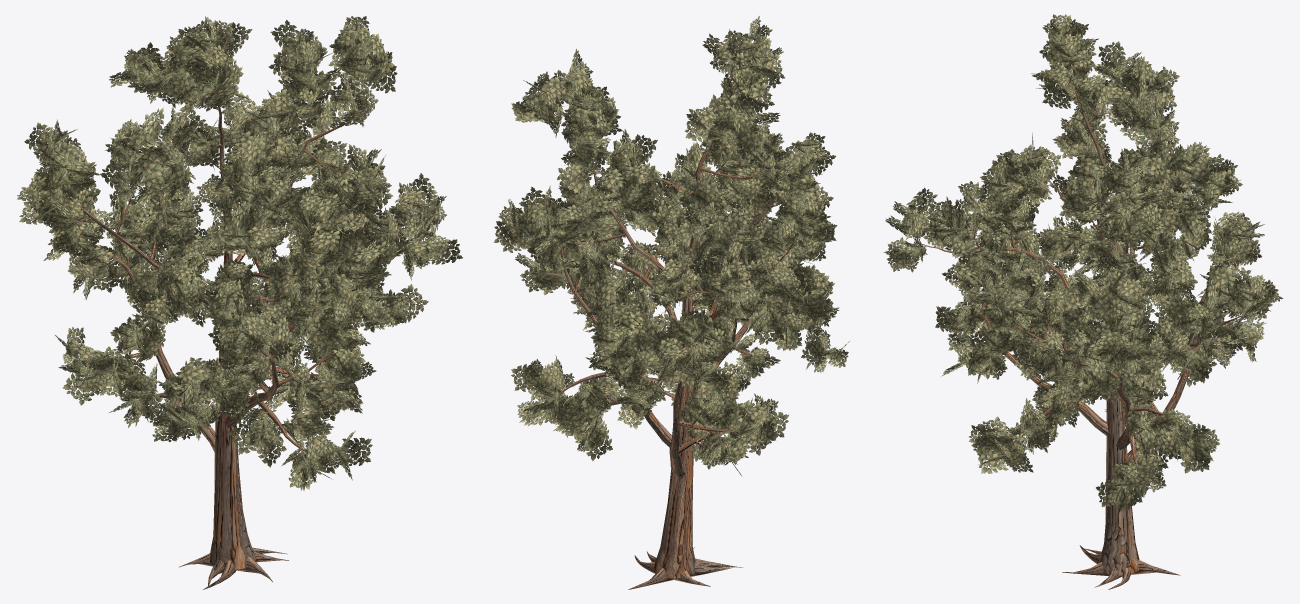
File: tree4.glb
3 renders of one model, left to right at view 1: azimuth 30°, elevation 25°; view 2: azimuth 150°, elevation 25°; view 3: azimuth 270°, elevation 25°, orthographic. The views are drawn at different scales.
Parts seen in each view (by area): view 1: Leaves_LOD0.003 (×2), Branches_LOD0.003 (×2); view 2: Leaves_LOD0.003 (×2), Branches_LOD0.003 (×2); view 3: Leaves_LOD0.003 (×2), Branches_LOD0.003 (×2).
Boxes of the visible parts, bbox=[...] form: Leaves_LOD0.003 (×2): bbox=[17, 16, 462, 490]; Branches_LOD0.003 (×2): bbox=[53, 43, 430, 589]; Leaves_LOD0.003 (×2): bbox=[493, 16, 849, 475]; Branches_LOD0.003 (×2): bbox=[516, 40, 829, 589]; Leaves_LOD0.003 (×2): bbox=[883, 14, 1282, 511]; Branches_LOD0.003 (×2): bbox=[911, 36, 1250, 589].
Size of the model in its own units: 30.84 by 44.64 by 30.42.
4 materials, 4 textured.
